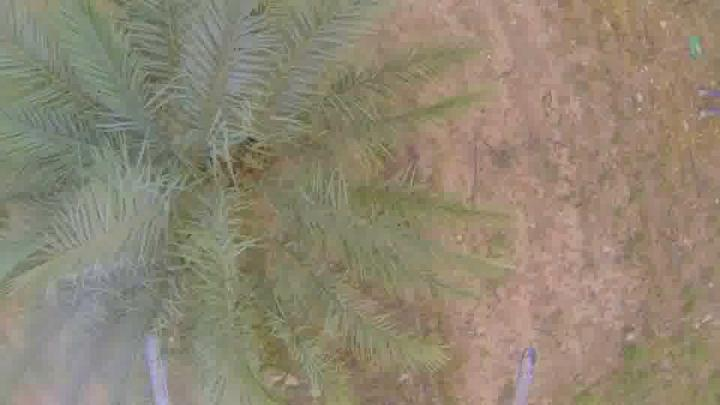Date-Palm-Crown: (18, 26, 416, 336)
